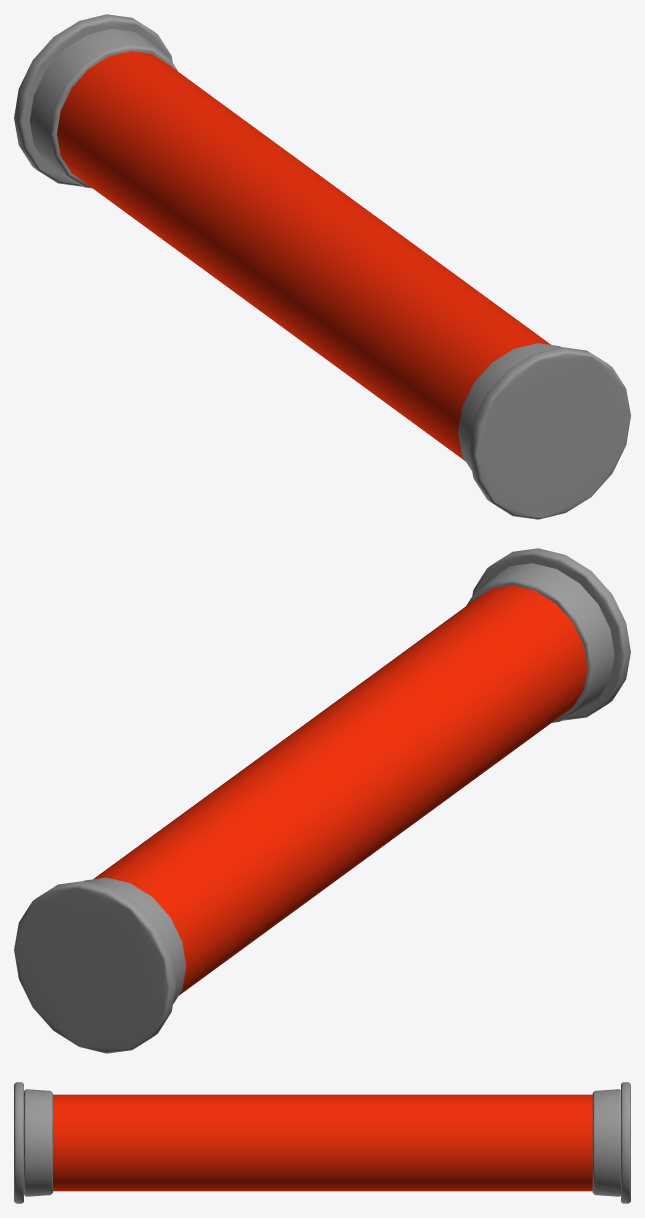
File: StraightPipe_01.FBX
3 views of the same model, one above another, from view 1: azimuth 30°, elevation 25°; view 2: azimuth 150°, elevation 25°; view 3: azimuth 270°, elevation 25° (orthographic). The views are drawn at different scales.
Parts seen in each view (by area): view 1: Cylinder001, Cylinder003, Cylinder011, Cylinder002, Cylinder012; view 2: Cylinder001, Cylinder002, Cylinder012, Cylinder003, Cylinder011; view 3: Cylinder001, Cylinder012, Cylinder011, Cylinder002, Cylinder003.
Part boxes in pixels (x1,y1,x2,y2): Cylinder001: [57, 51, 550, 460]; Cylinder003: [468, 347, 630, 519]; Cylinder011: [29, 29, 177, 188]; Cylinder002: [14, 14, 172, 186]; Cylinder012: [458, 343, 560, 470]; Cylinder001: [93, 585, 587, 995]; Cylinder002: [14, 881, 176, 1053]; Cylinder012: [466, 563, 614, 722]; Cylinder003: [472, 548, 630, 720]; Cylinder011: [84, 877, 186, 1003]; Cylinder001: [53, 1094, 592, 1191]; Cylinder012: [24, 1089, 52, 1196]; Cylinder011: [592, 1089, 620, 1196]; Cylinder002: [621, 1082, 630, 1203]; Cylinder003: [14, 1082, 23, 1203].
Size of the model in its own units: 60.03 by 59.11 by 304.
